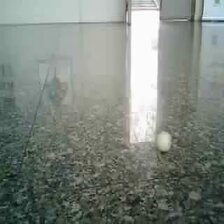w: (155, 131, 173, 153)
